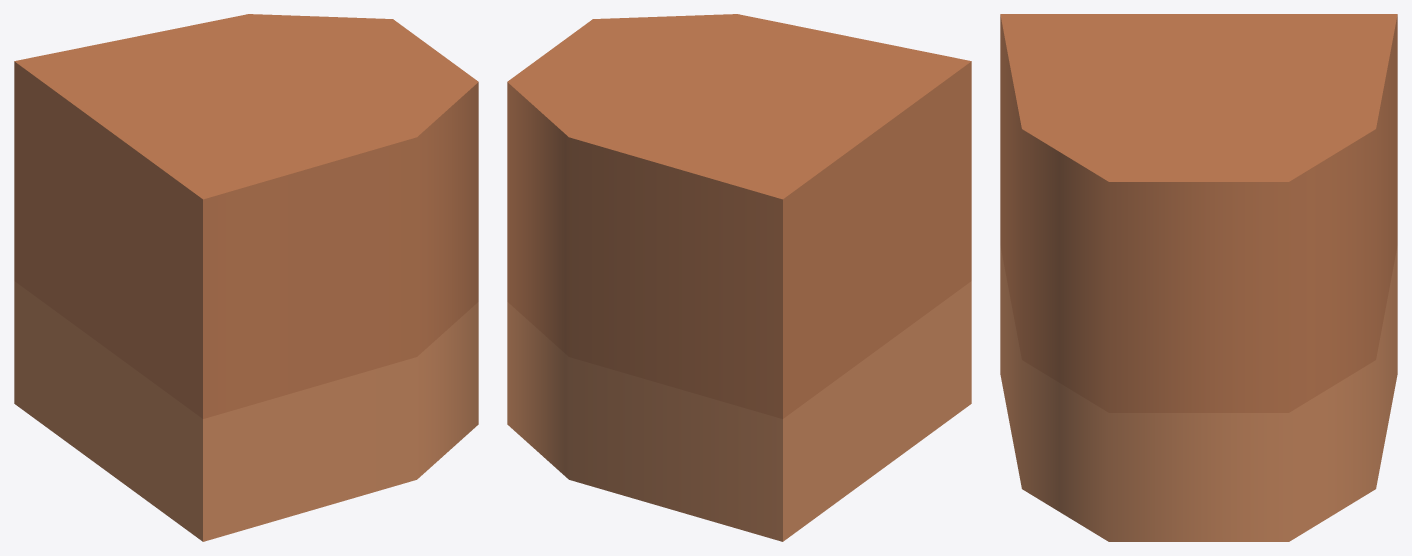
The model's file is 01_normal_middle_right.glb.
3 renders of one model, left to right at view 1: azimuth 30°, elevation 25°; view 2: azimuth 150°, elevation 25°; view 3: azimuth 270°, elevation 25°, orthographic. The views are drawn at different scales.
Visible parts, largest first — view 1: 01_normal_middle_right; view 2: 01_normal_middle_right; view 3: 01_normal_middle_right.
Part boxes in pixels (bbox=[...]): 01_normal_middle_right: bbox=[14, 14, 478, 541]; 01_normal_middle_right: bbox=[507, 14, 971, 541]; 01_normal_middle_right: bbox=[1000, 14, 1397, 541].
Bounding box in the file's own units: 0.5 × 0.5 × 0.5.
